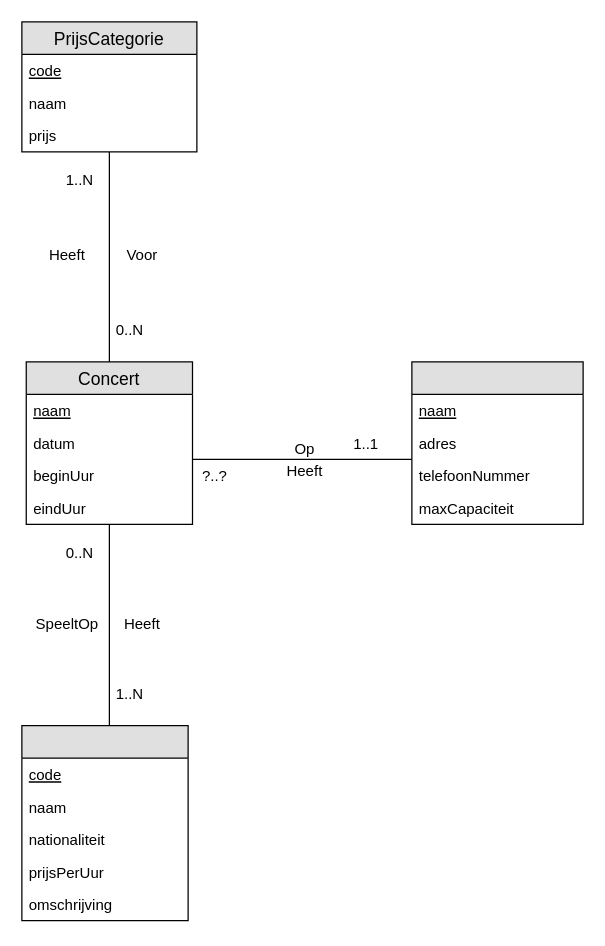
This 605x946 diagram has some shape labels left out. Each missing label, with the box of its shape:
Artiest: (21, 724, 188, 921)
Locatie: (411, 361, 583, 524)
